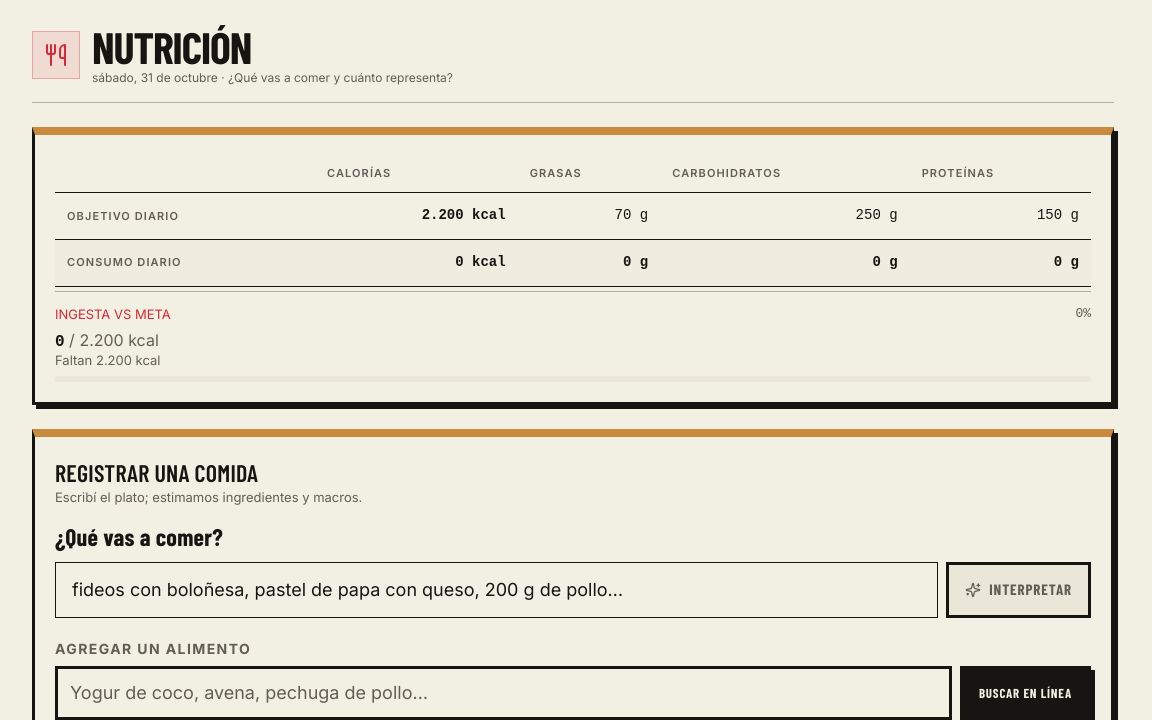
Test: Nutrición — aceptación funcional (flujo real) › 4) un alimento inexistente ofrece crearlo manualmente
Type "zzkk alimento raro yy" into the field named "Buscar alimento" at [503, 693], box [55,666,952,719]
(page scrolled)
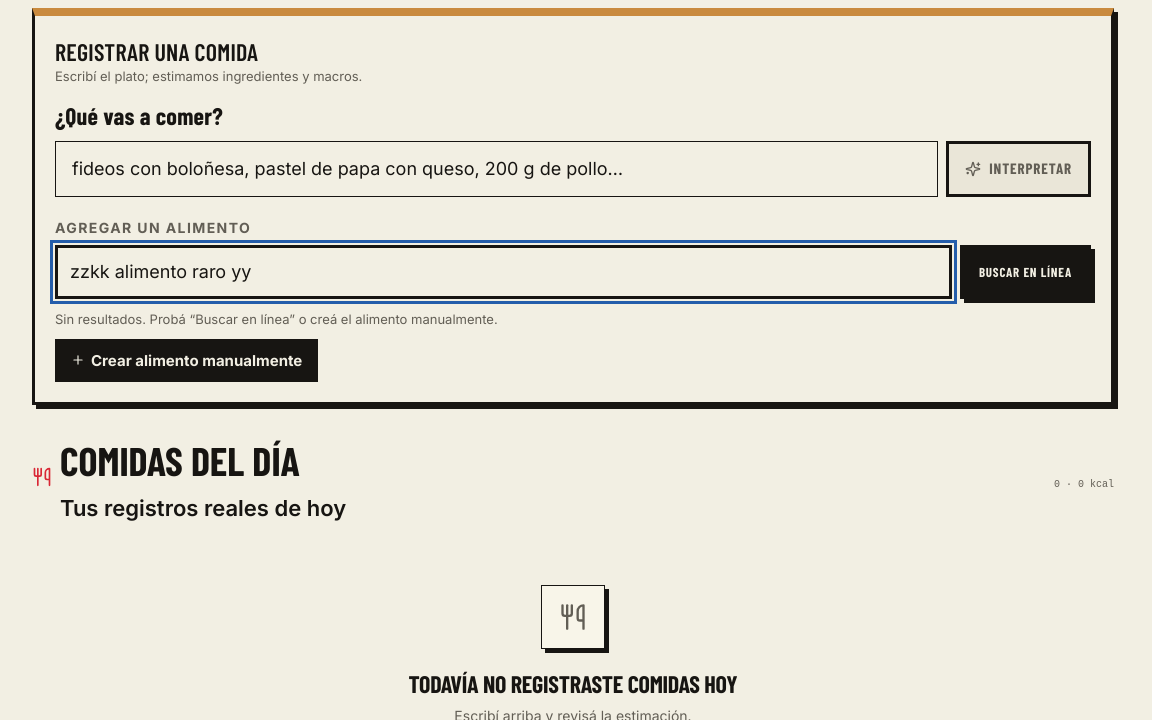
Expected: the button with test id "food-search-create" is shown, [55,339,318,382]
Expected: the text with test id "food-search-empty" is shown, [55,311,498,327]
